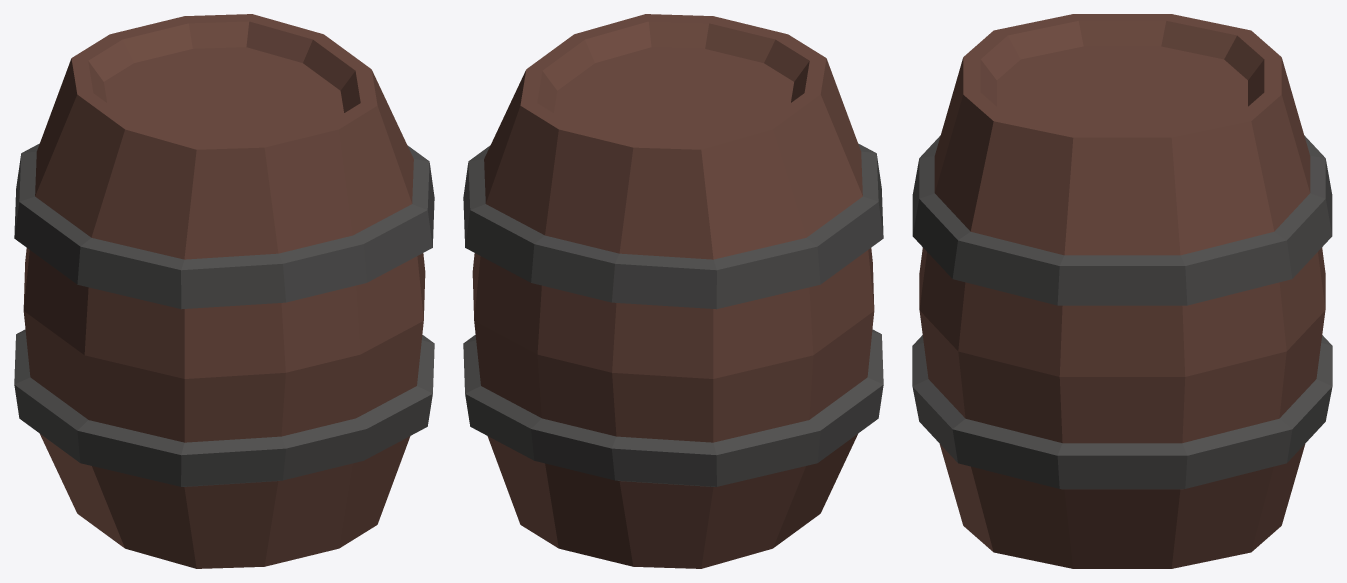
The model's file is barrel.fbx.
3 renders of one model, left to right at view 1: azimuth 30°, elevation 25°; view 2: azimuth 150°, elevation 25°; view 3: azimuth 270°, elevation 25°, orthographic. The views are drawn at different scales.
Parts seen in each view (by area): view 1: barrel; view 2: barrel; view 3: barrel.
Boxes of the visible parts, bbox=[...] form: barrel: bbox=[14, 14, 434, 568]; barrel: bbox=[463, 14, 883, 568]; barrel: bbox=[912, 14, 1332, 568].
Size of the model in its own units: 100 by 112 by 99.02.
